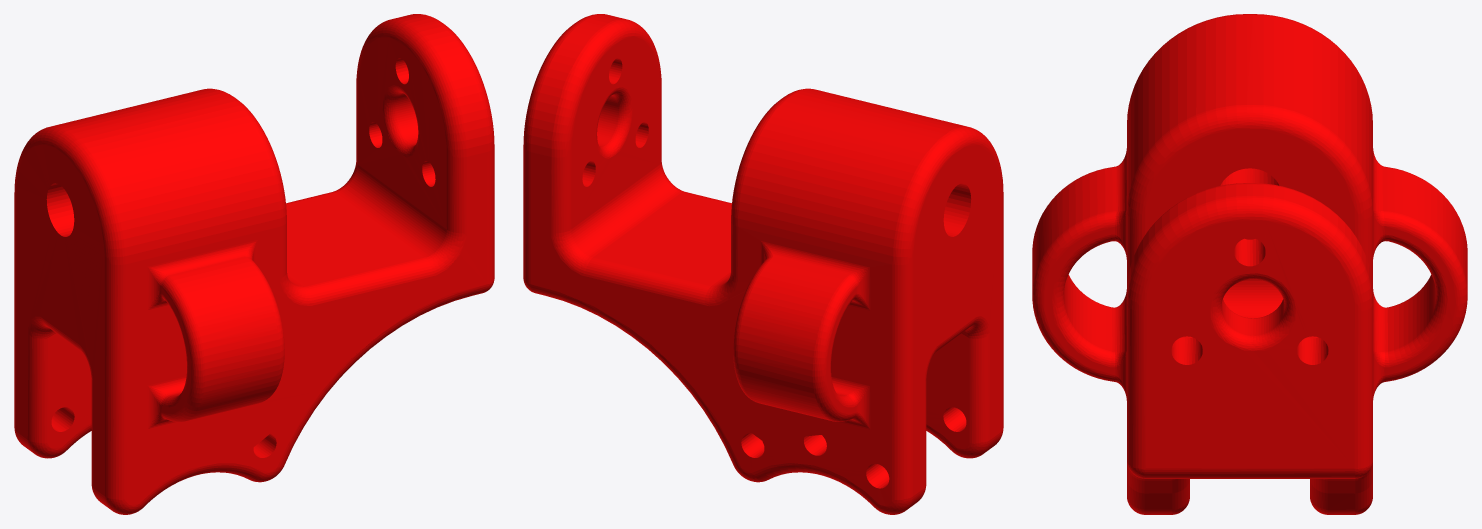
Rendered from legs_1_left_leg_1_ankle_1.glb.
The picture shows the model from 3 angles, left to right: view 1: azimuth 30°, elevation 25°; view 2: azimuth 150°, elevation 25°; view 3: azimuth 270°, elevation 25°; orthographic projection. The views are drawn at different scales.
Visible parts, largest first — view 1: legs_1_left_leg_1_ankle_1.obj; view 2: legs_1_left_leg_1_ankle_1.obj; view 3: legs_1_left_leg_1_ankle_1.obj.
Boxes of the visible parts, x1,y1,x2,y2 form: legs_1_left_leg_1_ankle_1.obj: [14, 14, 494, 514]; legs_1_left_leg_1_ankle_1.obj: [523, 14, 1003, 514]; legs_1_left_leg_1_ankle_1.obj: [1032, 14, 1467, 514].
Bounding box in the file's own units: 0.0841 × 0.0773 × 0.069.
